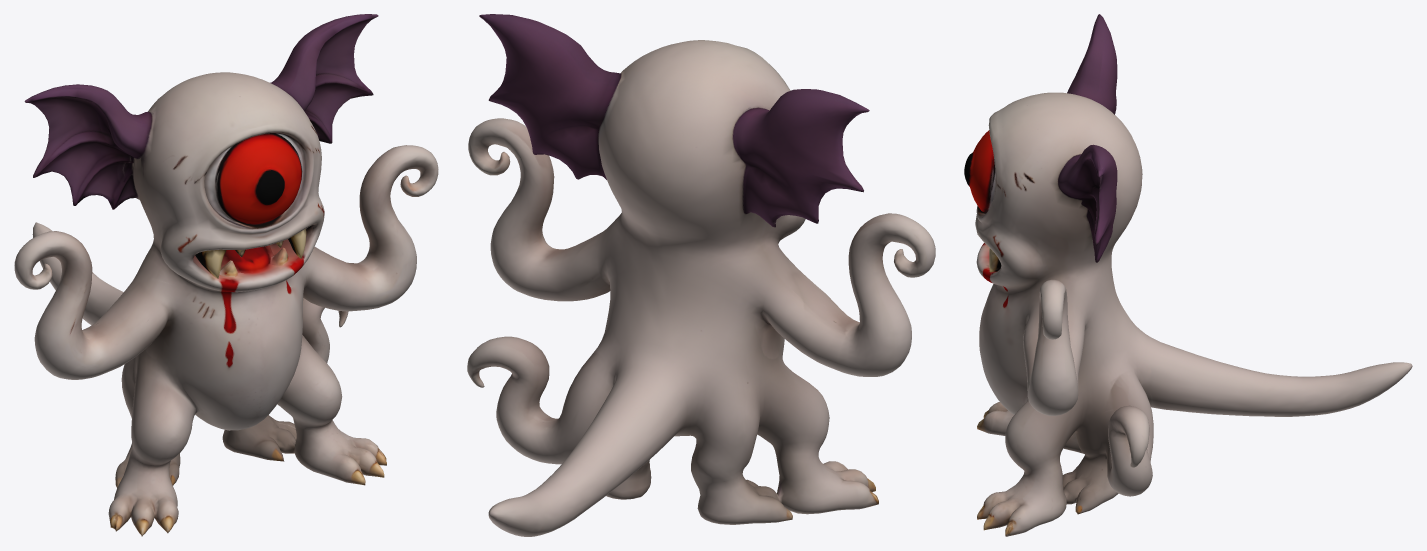
File: Octerra_Vampire_OS_MML_FINAL.glb
3 renders of one model, left to right at view 1: azimuth 30°, elevation 25°; view 2: azimuth 150°, elevation 25°; view 3: azimuth 270°, elevation 25°, orthographic. The views are drawn at different scales.
Visible parts, largest first — view 1: material; view 2: material; view 3: material.
Part boxes in pixels (left/top/right/bottom): material: left=14, top=14, right=438, bottom=536; material: left=467, top=14, right=935, bottom=536; material: left=964, top=14, right=1412, bottom=536.
Bounding box in the file's own units: 1.9 × 1.77 × 1.87.
Materials: 1 (1 with a texture image).
